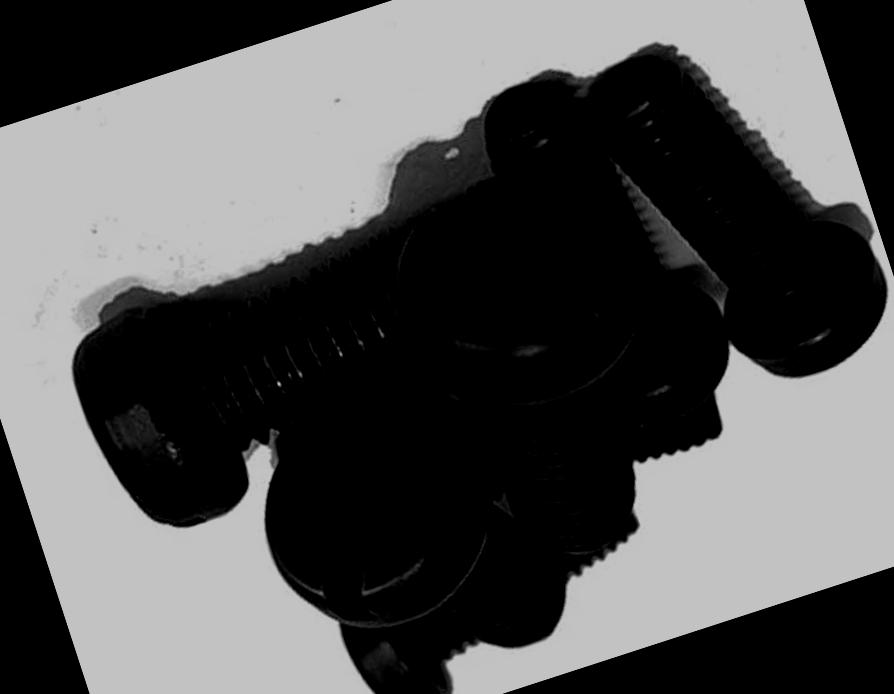screw: (362, 134, 676, 440), (233, 374, 514, 654)
